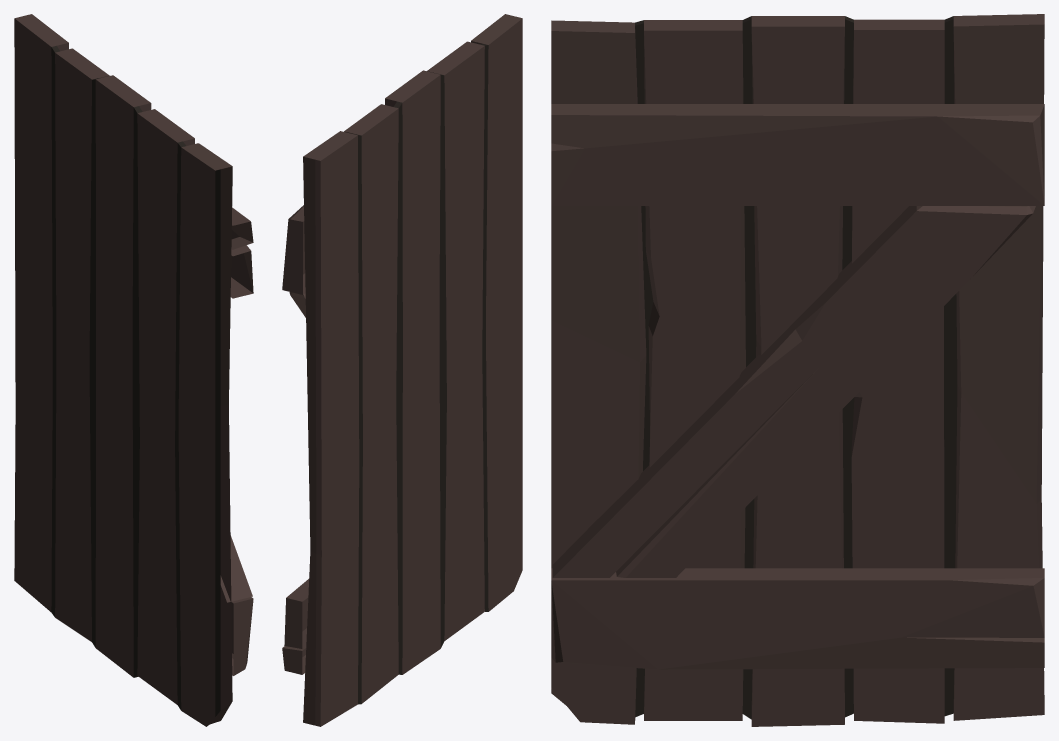
The model's file is SM_Stable_door_left.fbx.
The picture shows the model from 3 angles, left to right: view 1: azimuth 30°, elevation 25°; view 2: azimuth 150°, elevation 25°; view 3: azimuth 270°, elevation 25°; orthographic projection. The views are drawn at different scales.
Parts seen in each view (by area): view 1: SM_Stable_door_left; view 2: SM_Stable_door_left; view 3: SM_Stable_door_left.
Part boxes in pixels (<box>): SM_Stable_door_left: <box>14,14,253,726</box>; SM_Stable_door_left: <box>282,14,522,726</box>; SM_Stable_door_left: <box>551,14,1044,726</box>.
Size of the model in its own units: 13.94 by 199 by 127.
